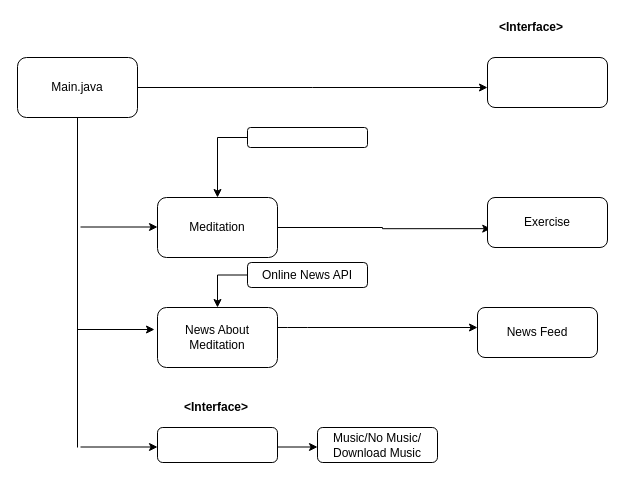
This 625x480 diagram has some shape labels left out. Here are the shapes that lost their labels. From the top down, the centre of each, then its label:
At point (547, 82): "Main Interface".
At point (307, 137): "Hrt B reader".
At point (217, 444): "Music Selection".
